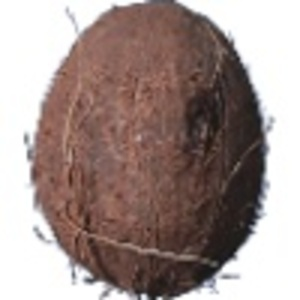coco: (26, 1, 274, 300)
